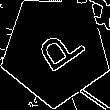P_SW: (25, 20, 86, 79)
